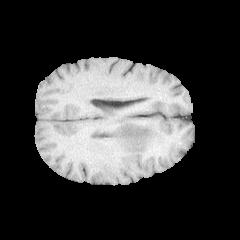glioma: (107, 119, 168, 158)
